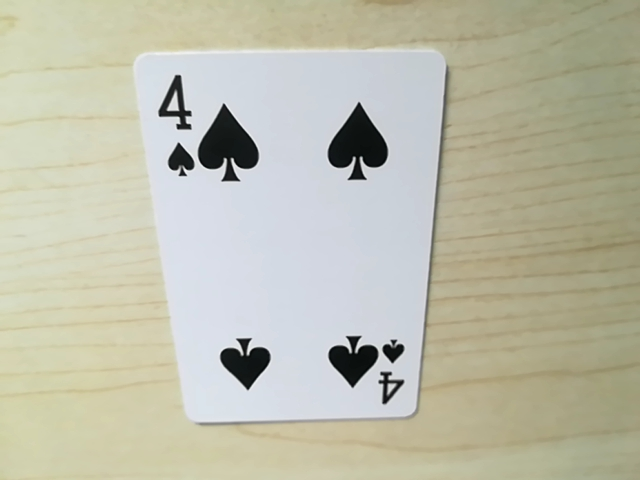ht 4: (151, 64, 204, 181), (367, 335, 410, 408)
